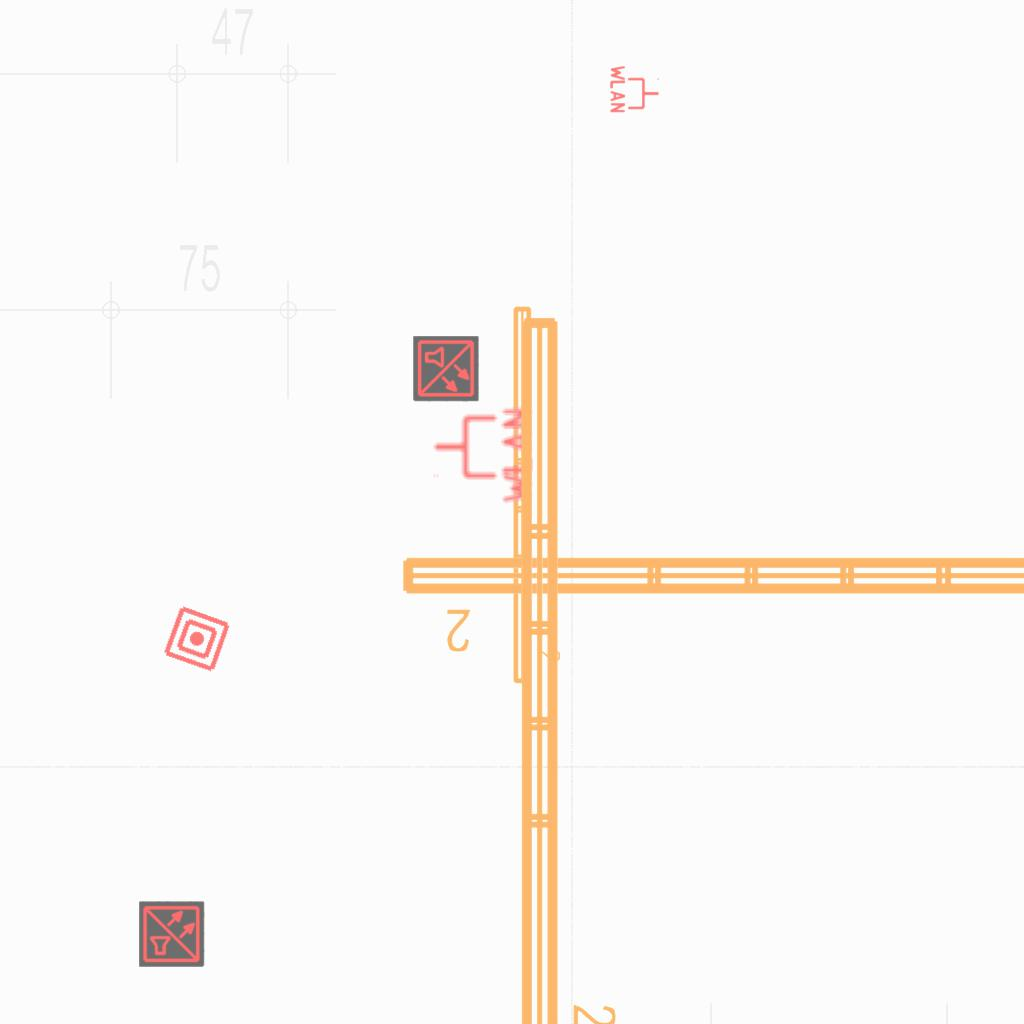Ambulanz_Pendelleuchte_LED: (509, 307, 621, 1024), (394, 545, 1024, 657), (507, 301, 563, 688)
NAM-Nichtautomatischer_Melder: (161, 603, 233, 675)
OKW_Multisensormelder_(Kombination_optischer_Rauch-Kahlenmonoxid_Waerme-Melder): (139, 901, 205, 967), (413, 336, 479, 402)
WLAN: (430, 404, 535, 508), (609, 63, 661, 115)
